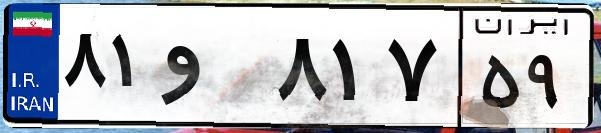1: (330, 28, 385, 110), (110, 28, 158, 98)
5: (475, 38, 525, 113)
7: (385, 28, 445, 110)
8: (270, 28, 330, 110), (57, 26, 110, 100)
9: (525, 38, 570, 115)
و: (158, 20, 270, 120)
